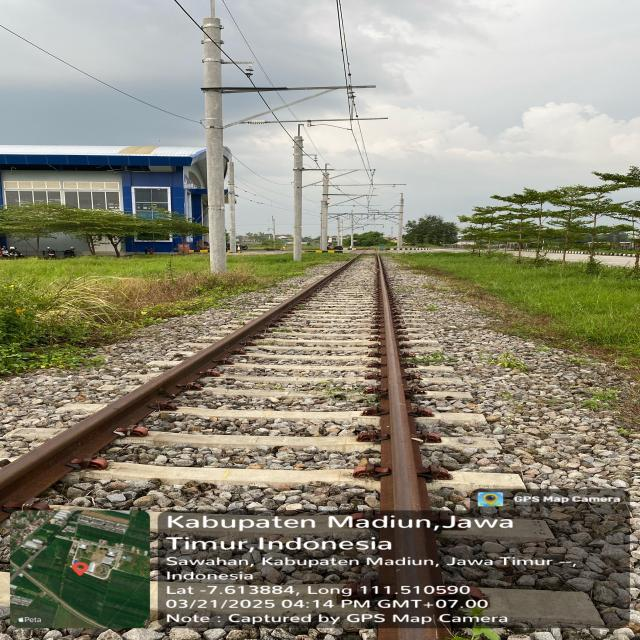rail-detection: (0, 260, 354, 516), (352, 256, 486, 640)
